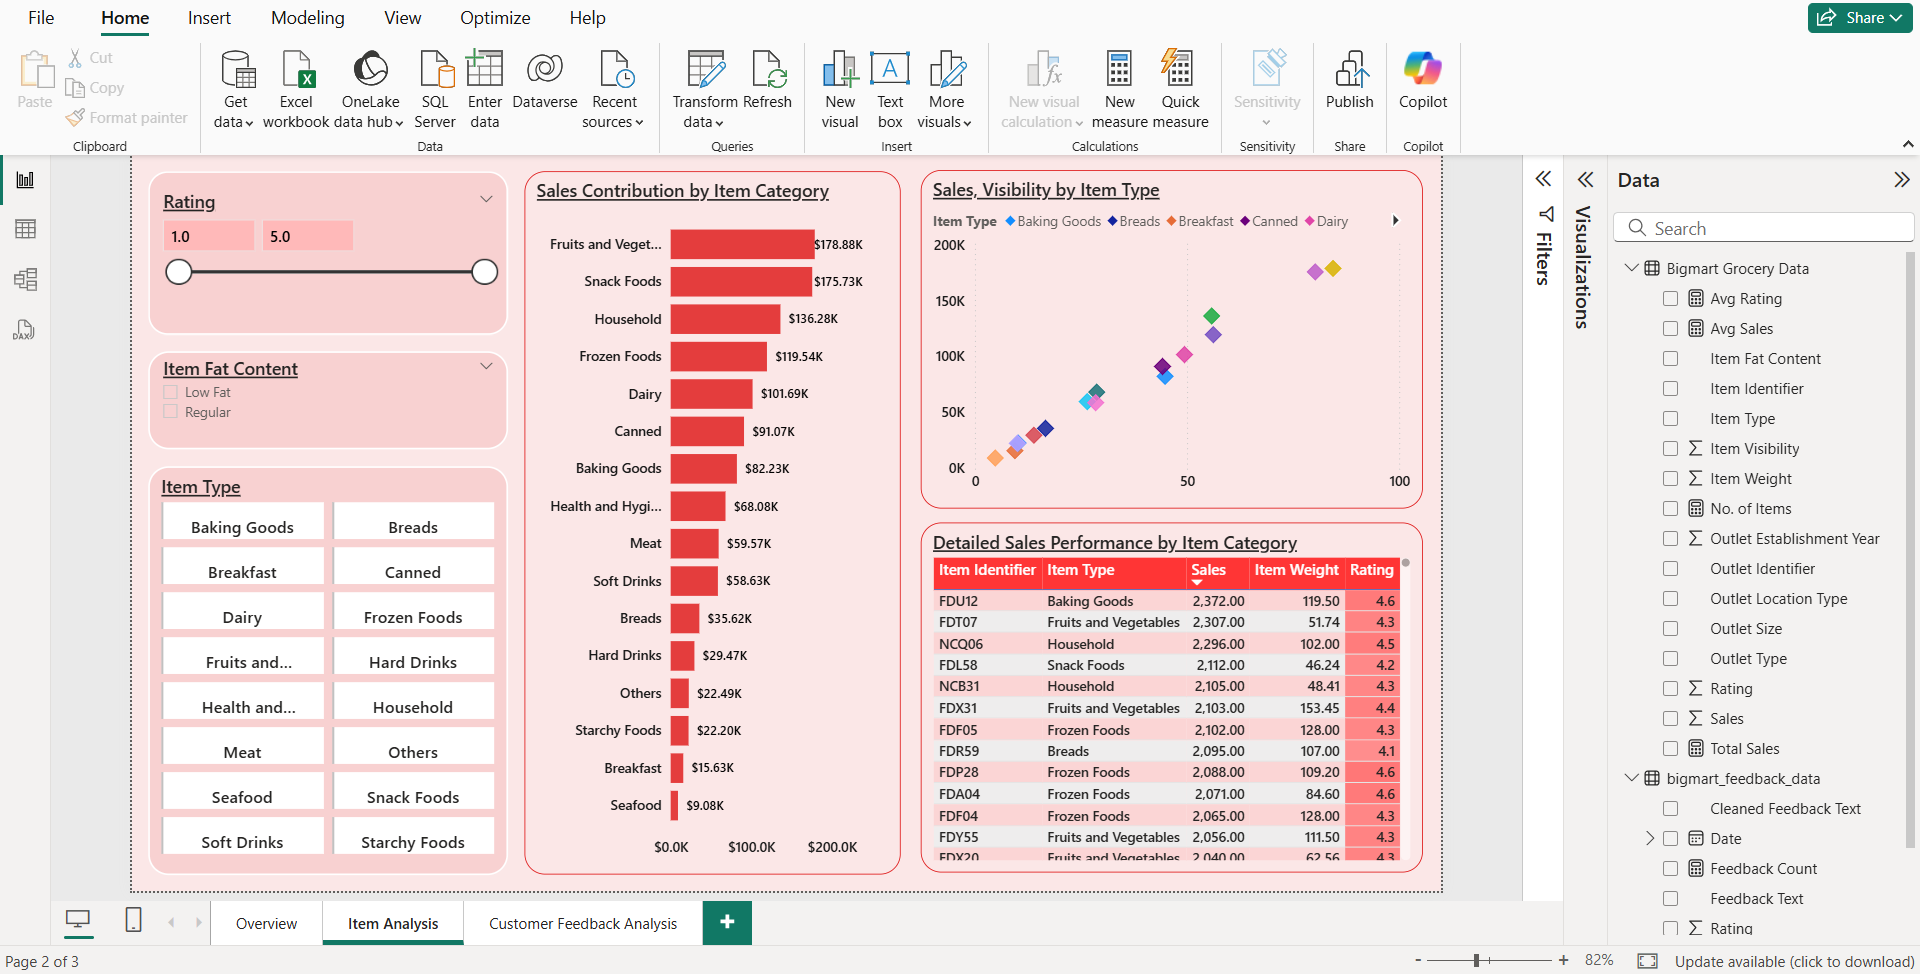

The dashboard page shown, as its layout file describes it:
{"tool":"powerbi","page":{"name":"Item Analysis","canvas":[1280,720],"ordinal":1},"visuals":[{"type":"barChart","title":"Sales Contribution by Item Category","fields":{"Category":["Bigmart Grocery Data.Item Type"],"Y":["Bigmart Grocery Data.Total Sales"]},"box":[384,16,368,688],"z":0},{"type":"slicer","fields":{"Values":["Bigmart Grocery Data.Item Fat Content"]},"box":[16,192,352,96],"z":1000},{"type":"advancedSlicerVisual","fields":{"Values":["Bigmart Grocery Data.Item Type"]},"box":[16,304,352,400],"z":2000},{"type":"slicer","fields":{"Values":["Bigmart Grocery Data.Rating"]},"box":[16,16,352,160],"z":3000},{"type":"scatterChart","title":"Sales, Visibility by Item Type","fields":{"X":["Sum(Bigmart Grocery Data.Item Visibility)"],"Y":["Sum(Bigmart Grocery Data.Sales)"],"Series":["Bigmart Grocery Data.Item Type"]},"box":[771.8,14.4,491,331.2],"z":4000},{"type":"tableEx","title":"Detailed Sales Performance by Item Category","fields":{"Values":["Bigmart Grocery Data.Item Identifier","Bigmart Grocery Data.Item Type","Sum(Bigmart Grocery Data.Sales)","Sum(Bigmart Grocery Data.Item Weight)","Avg(Bigmart Grocery Data.Rating)"]},"box":[771.8,360,491,342.7],"z":5000}]}

Visuals, with their boxes on the page's 1280x720 design canvas (x1, y1, x2, y2). These are canvas units, not pixel positions in the 1920x974 screenshot, which may show the page scaled, cropped or inside an application window:
"Sales Contribution by Item Category" barChart: BBox(384, 16, 752, 704)
slicer - Bigmart Grocery Data.Item Fat Content: BBox(16, 192, 368, 288)
advancedSlicerVisual - Bigmart Grocery Data.Item Type: BBox(16, 304, 368, 704)
slicer - Bigmart Grocery Data.Rating: BBox(16, 16, 368, 176)
"Sales, Visibility by Item Type" scatterChart: BBox(772, 14, 1263, 346)
"Detailed Sales Performance by Item Category" tableEx: BBox(772, 360, 1263, 703)
